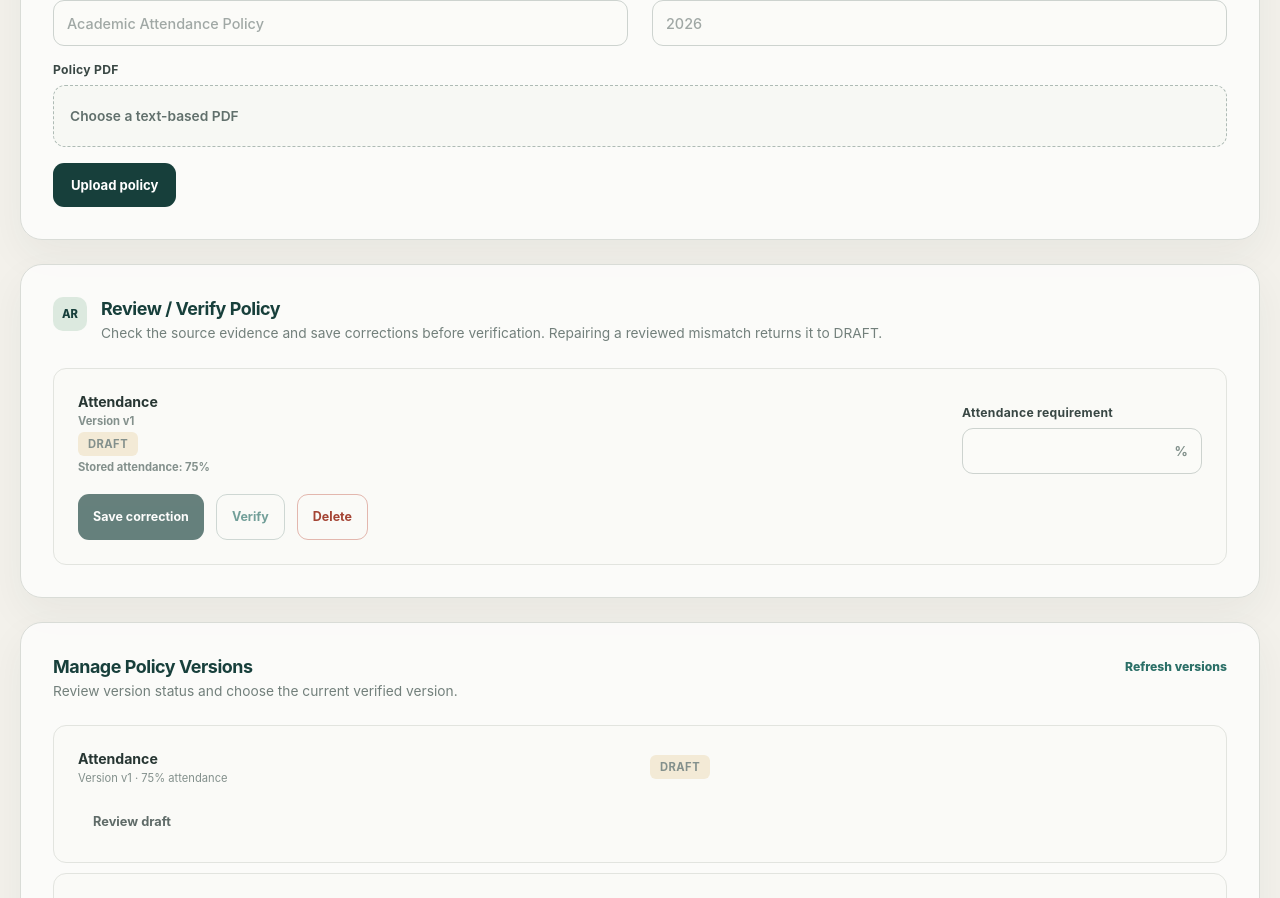
Test case: preserves admin rule review at 75 percent
(page scrolled)
In the number field labelled "Attendance requirement %": (1082, 450) 962,428 -> 1202,474, type "75"
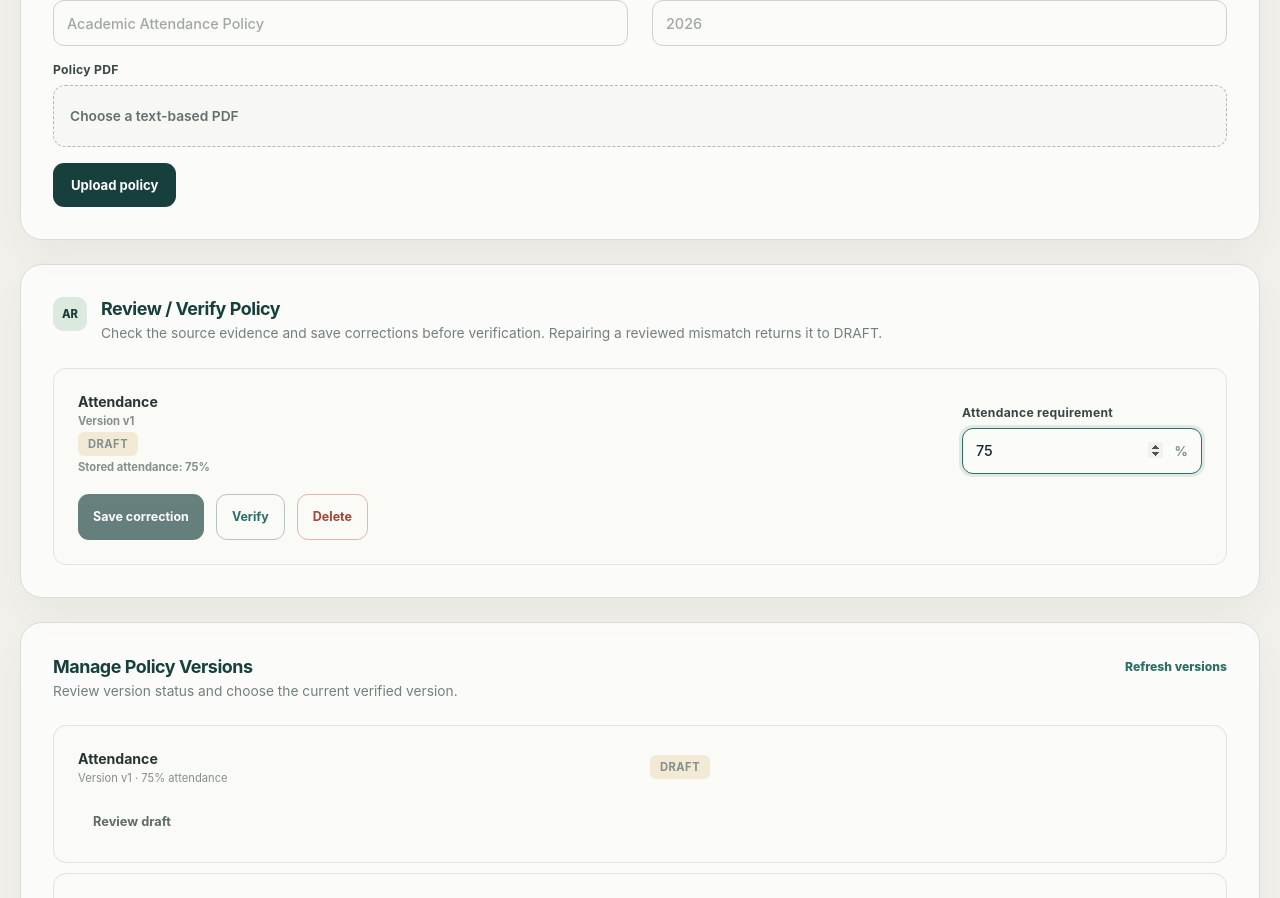
Click the button "Verify": (250, 516) 216,494 -> 285,540
(page scrolled)
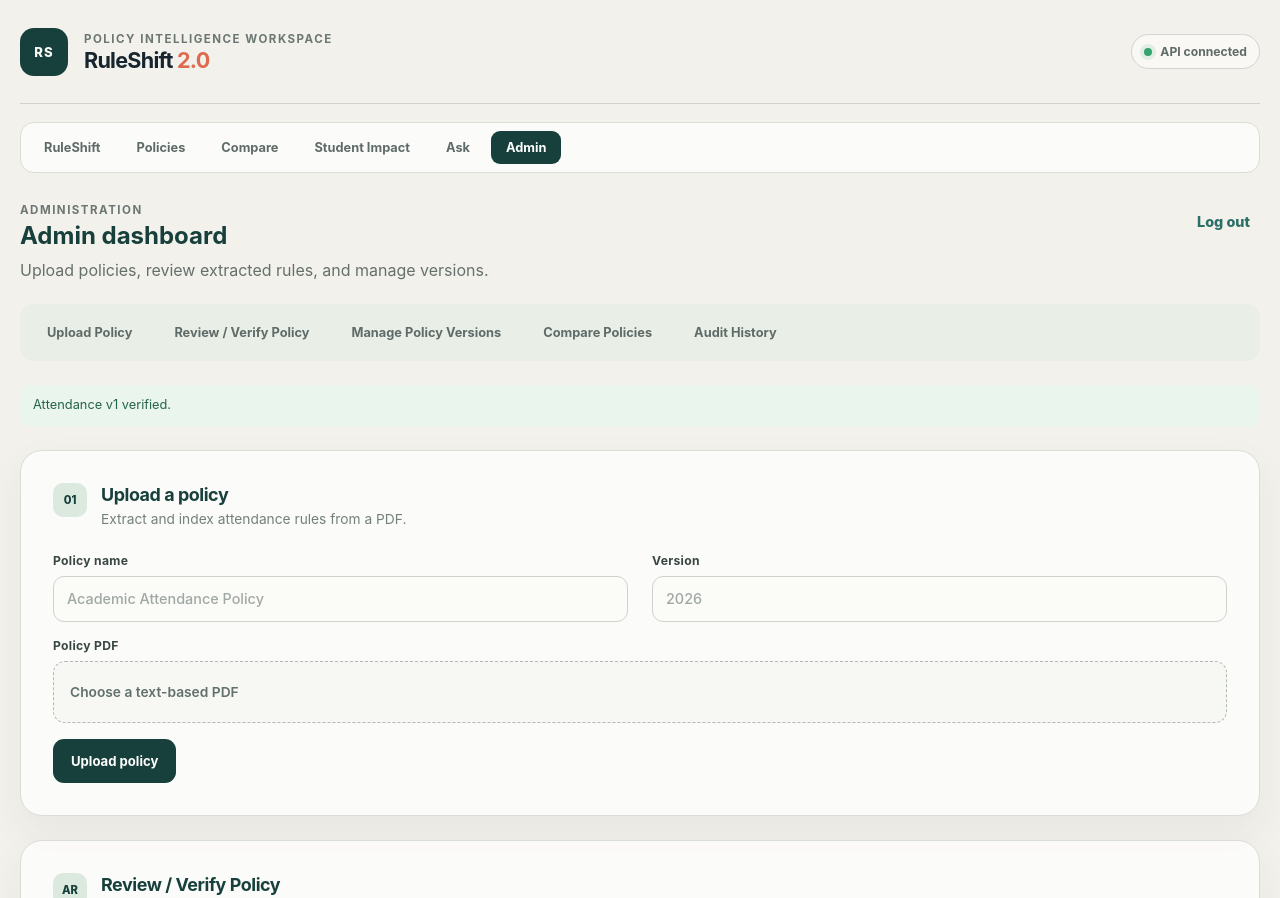
Now the text "Attendance v1 verified." is shown, box 20,385 -> 1260,426
